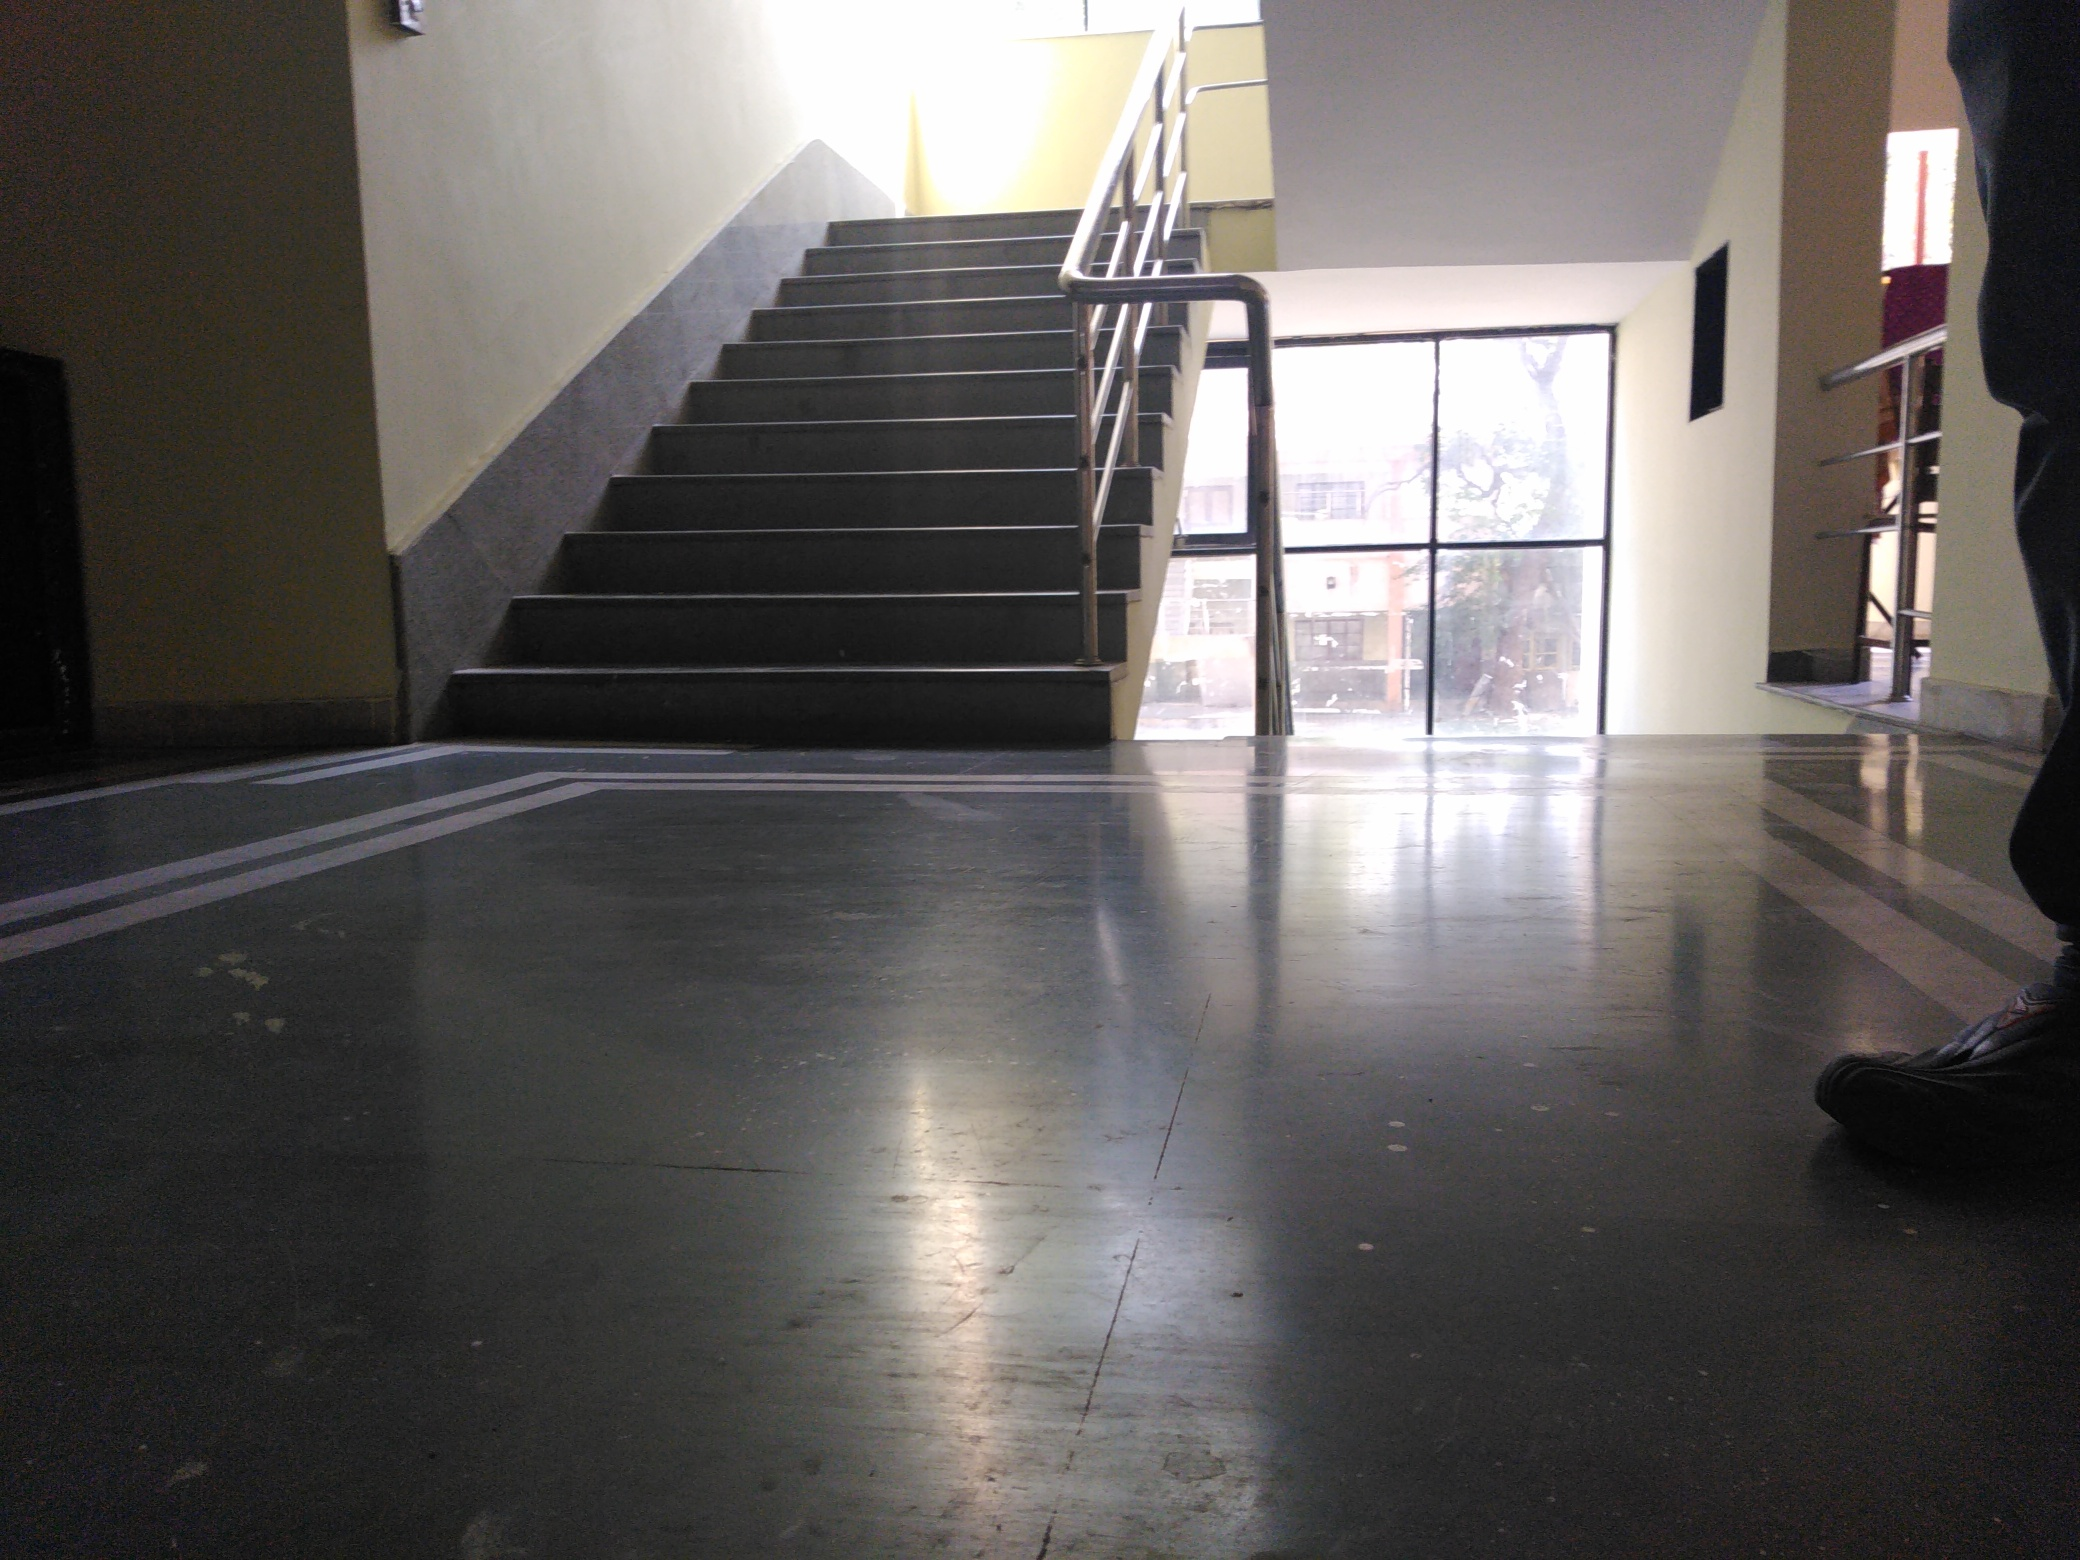stairs_up: (427, 195, 1215, 754)
